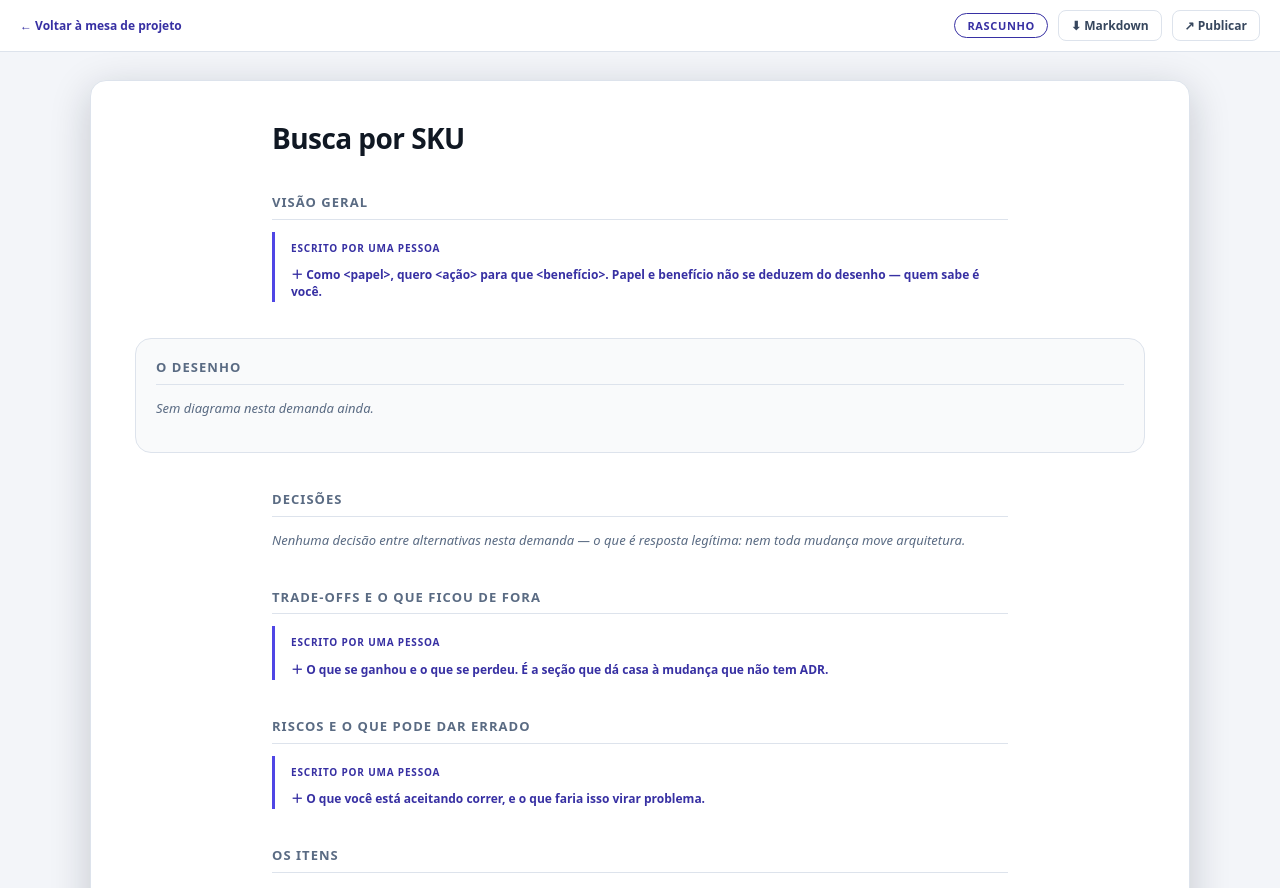
Test: publicar o documento (SPEC-81 fatia B) › enquanto publica, o botão trava — dois cliques não viram duas páginas
Click the button with test id "publicar-documento".
click(1216, 26)  # box [1172, 10, 1260, 41]
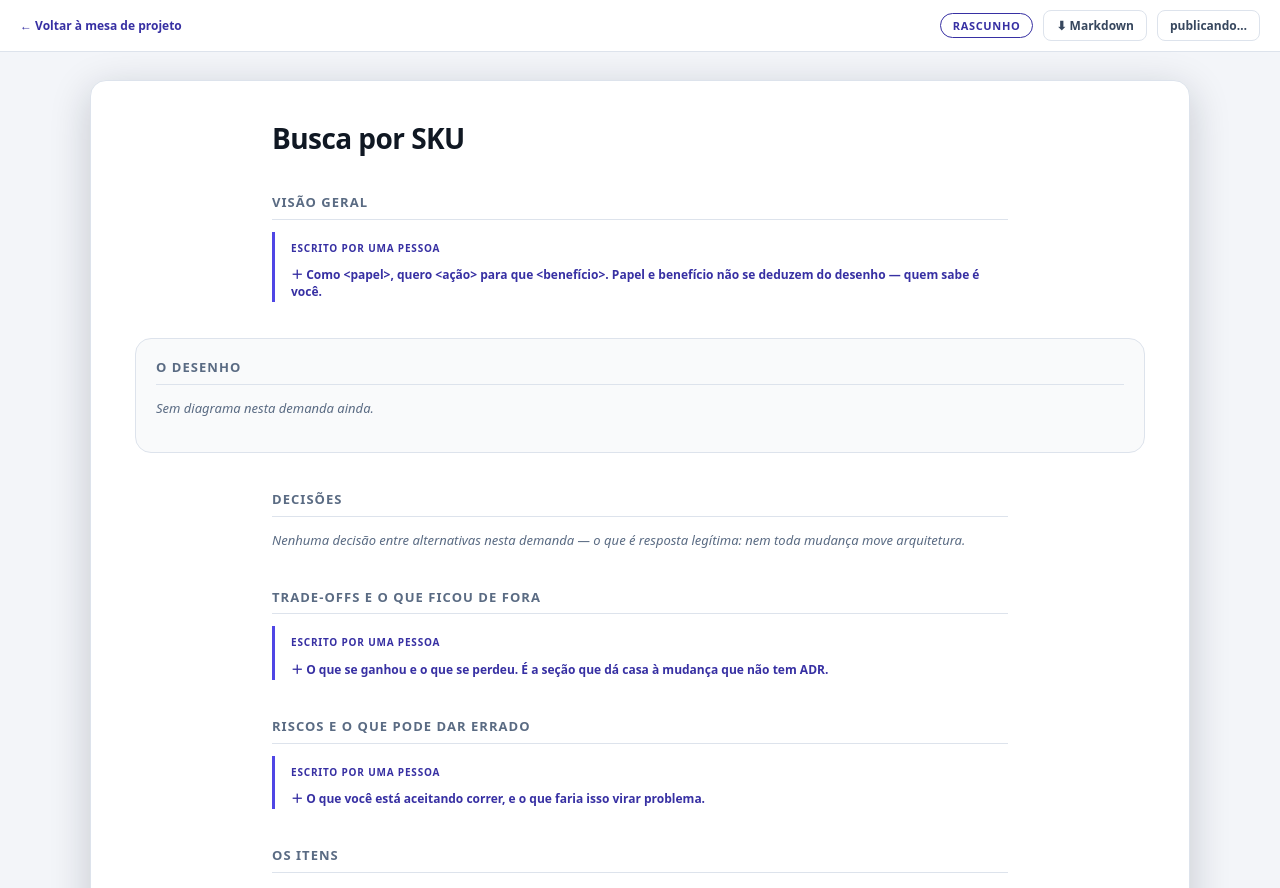
Expected: the button with test id "publicar-documento" is disabled
Click the button with test id "publicar-documento".
click(1208, 26)  # box [1157, 10, 1260, 41]
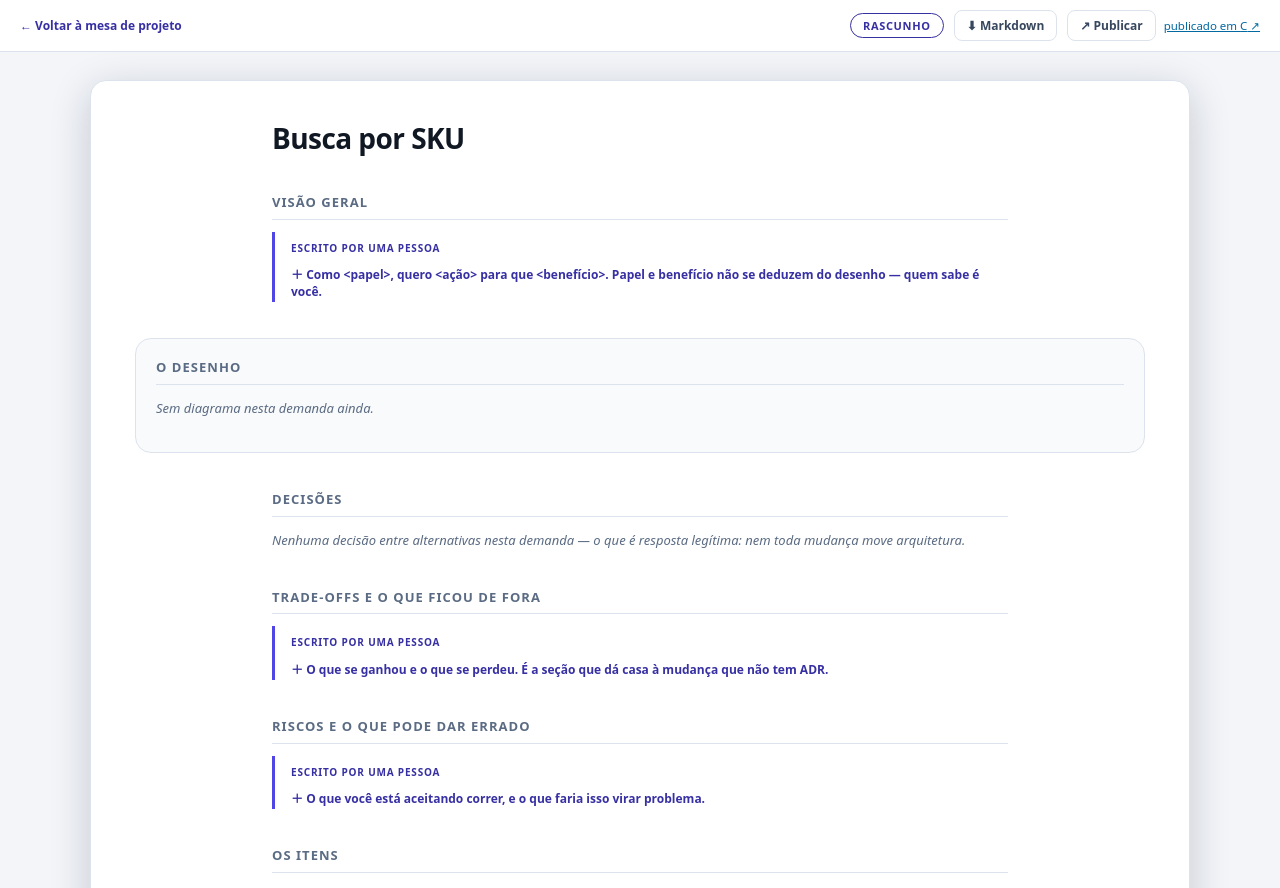
Expected: the link with test id "documento-publicado" is shown, [1164, 18, 1260, 33]
